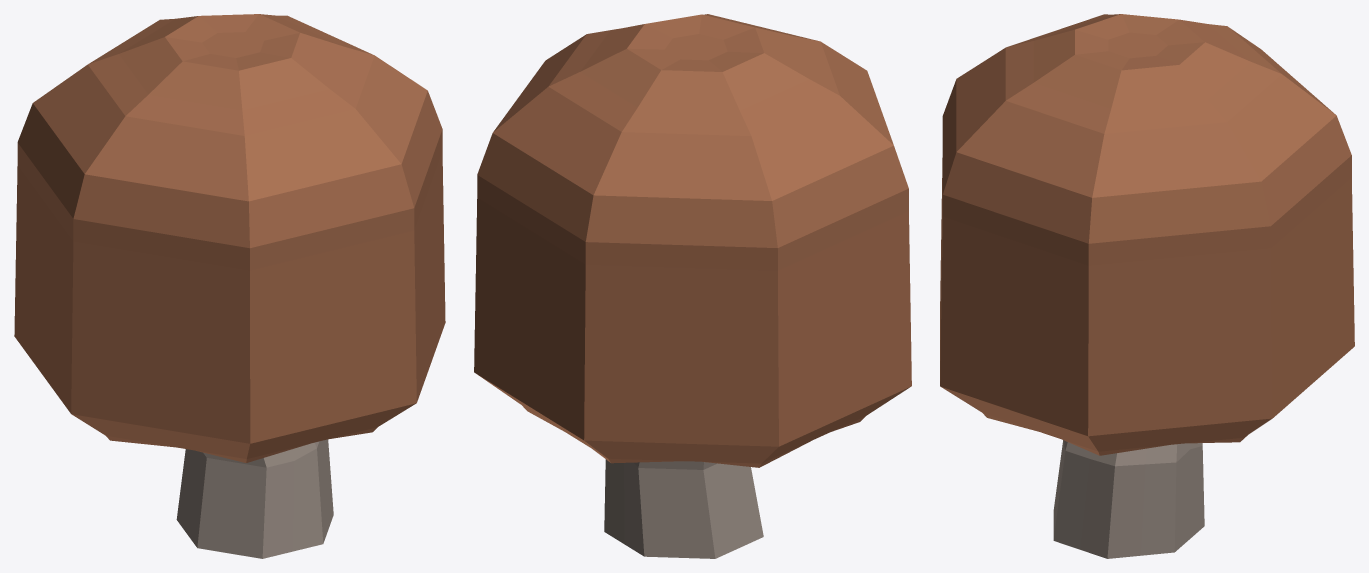
Rendered from mushroom-3.fbx.
3 renders of one model, left to right at view 1: azimuth 30°, elevation 25°; view 2: azimuth 150°, elevation 25°; view 3: azimuth 270°, elevation 25°, orthographic. The views are drawn at different scales.
Parts seen in each view (by area): view 1: Cylinder; view 2: Cylinder; view 3: Cylinder.
Part boxes in pixels (<box>): Cylinder: <box>14,14,445,558</box>; Cylinder: <box>474,14,911,558</box>; Cylinder: <box>940,14,1354,558</box>.
Bounding box in the file's own units: 287 × 232 × 226.
